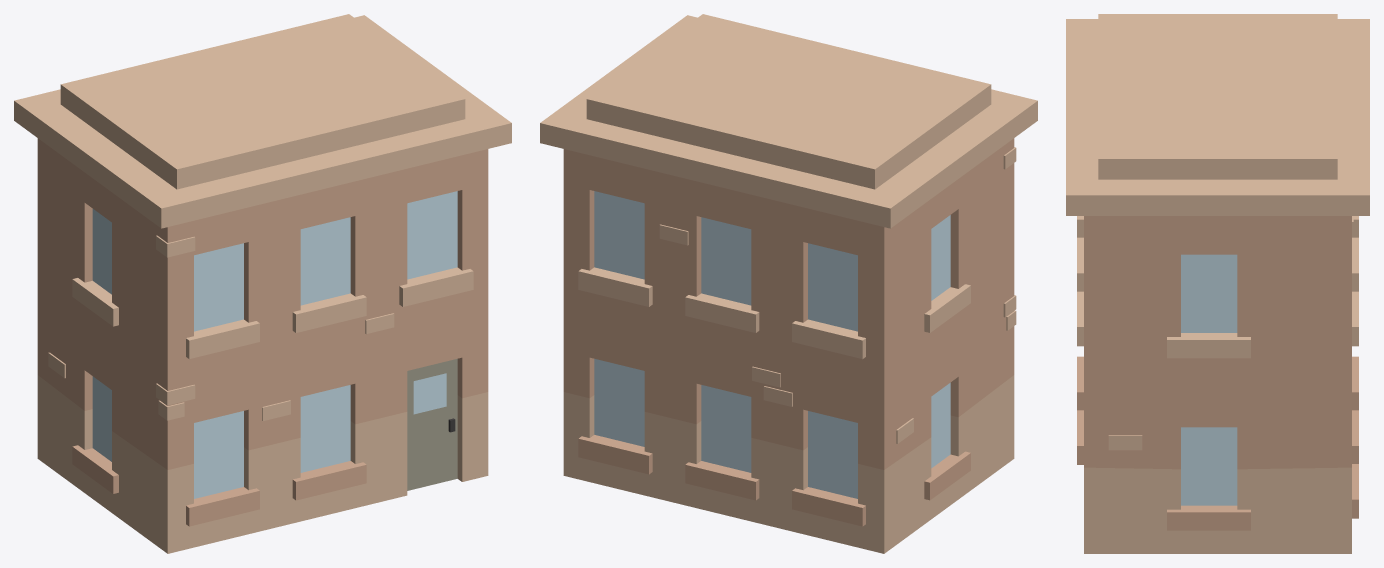
The model's file is city_building_5.glb.
3 renders of one model, left to right at view 1: azimuth 30°, elevation 25°; view 2: azimuth 150°, elevation 25°; view 3: azimuth 270°, elevation 25°, orthographic. The views are drawn at different scales.
Parts seen in each view (by area): view 1: Building_5; view 2: Building_5; view 3: Building_5.
Boxes of the visible parts, bbox=[...] form: Building_5: bbox=[14, 14, 511, 553]; Building_5: bbox=[540, 14, 1037, 553]; Building_5: bbox=[1066, 14, 1369, 553].
Size of the model in its own units: 3.57 by 3.66 by 2.6.
1 material, 1 textured.
